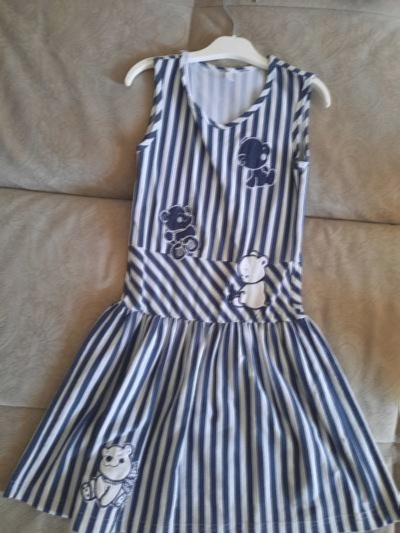Dress: (8, 47, 392, 527)
